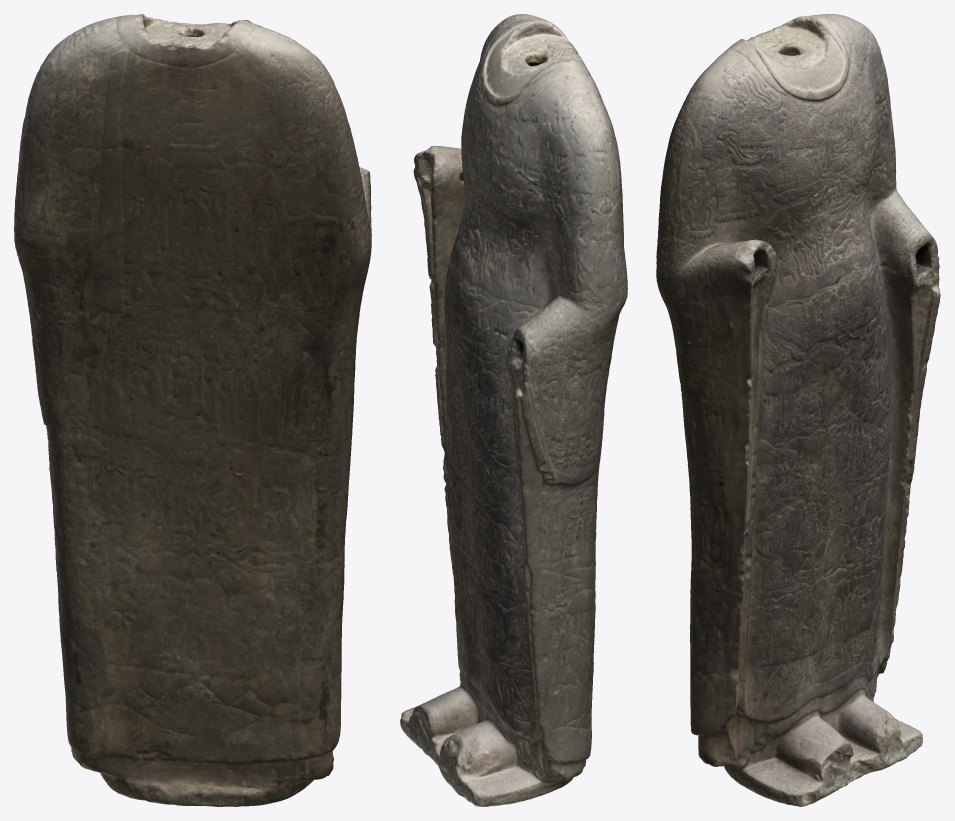
Rendered from cosmic-buddha.glb.
3 views of the same model, side by side, from view 1: azimuth 30°, elevation 25°; view 2: azimuth 150°, elevation 25°; view 3: azimuth 270°, elevation 25° (orthographic). The views are drawn at different scales.
Size of the model in its own units: 590 by 1515 by 544.
Materials: 1 (1 with a texture image).
